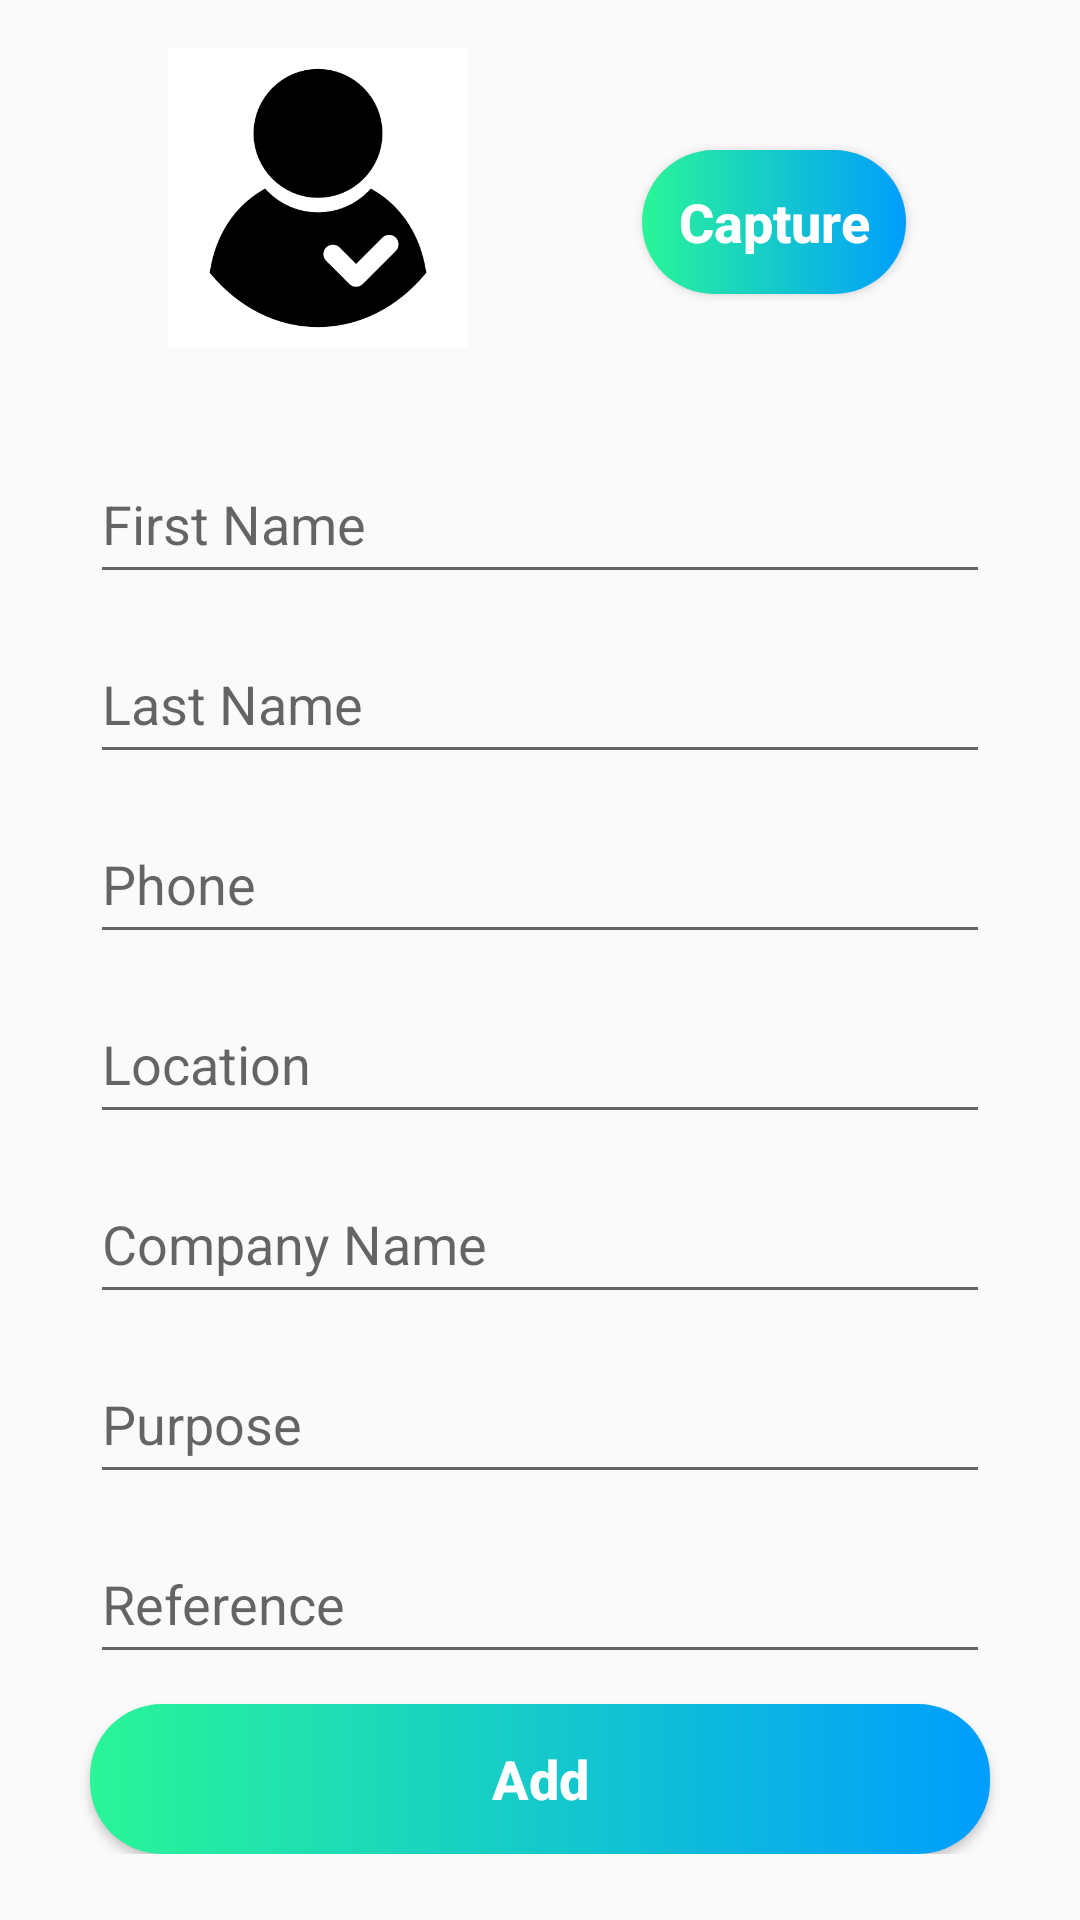

Icon bounding boxes for this 1080×1920 phone screenshot, format bbox(x1, y1, x2, y2):
visitor: bbox(209, 68, 427, 328)
